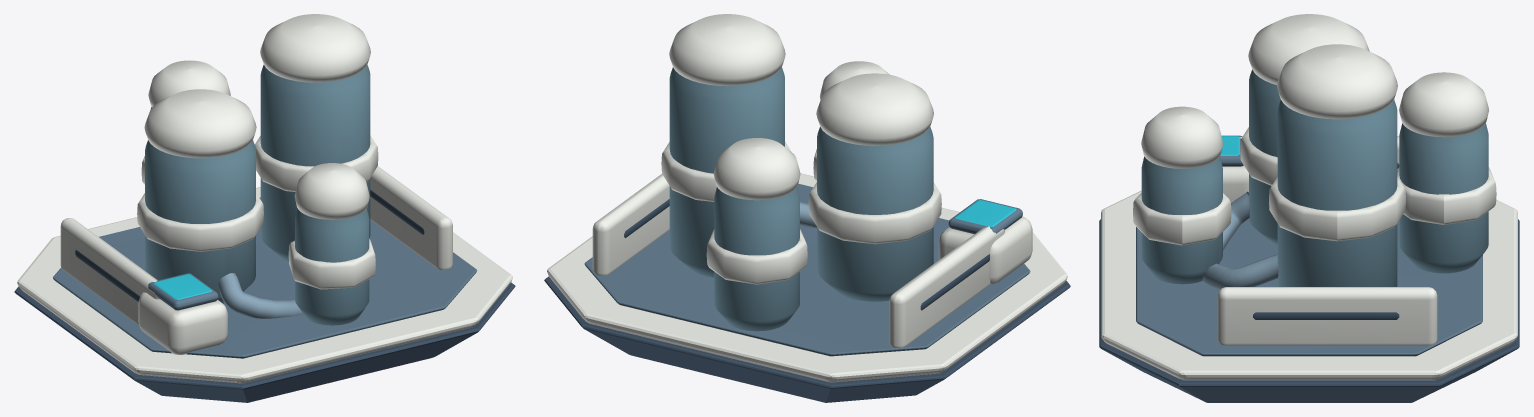
The model's file is heavy_element_refinery_lv4.glb.
The picture shows the model from 3 angles, left to right: view 1: azimuth 30°, elevation 25°; view 2: azimuth 150°, elevation 25°; view 3: azimuth 270°, elevation 25°; orthographic projection. The views are drawn at different scales.
Visible parts, largest first — view 1: Structure; view 2: Structure; view 3: Structure.
Boxes of the visible parts, bbox=[...] form: Structure: bbox=[14, 14, 515, 402]; Structure: bbox=[544, 14, 1070, 402]; Structure: bbox=[1099, 14, 1519, 402].
Bounding box in the file's own units: 7.23 × 5 × 6.31.
